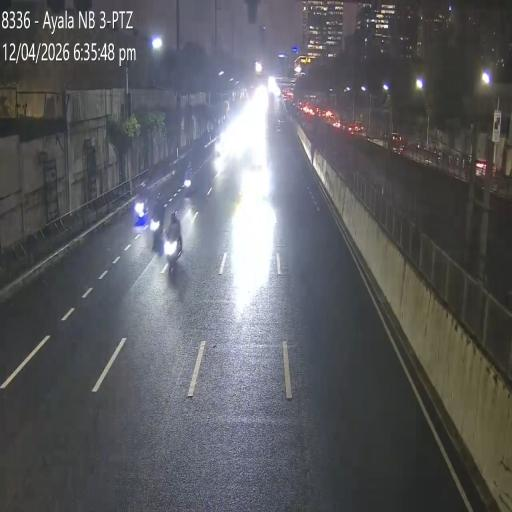Motor: (167, 216, 182, 278), (148, 203, 164, 259), (134, 198, 150, 228), (183, 171, 194, 197)
Not Accident: (148, 198, 183, 276)
